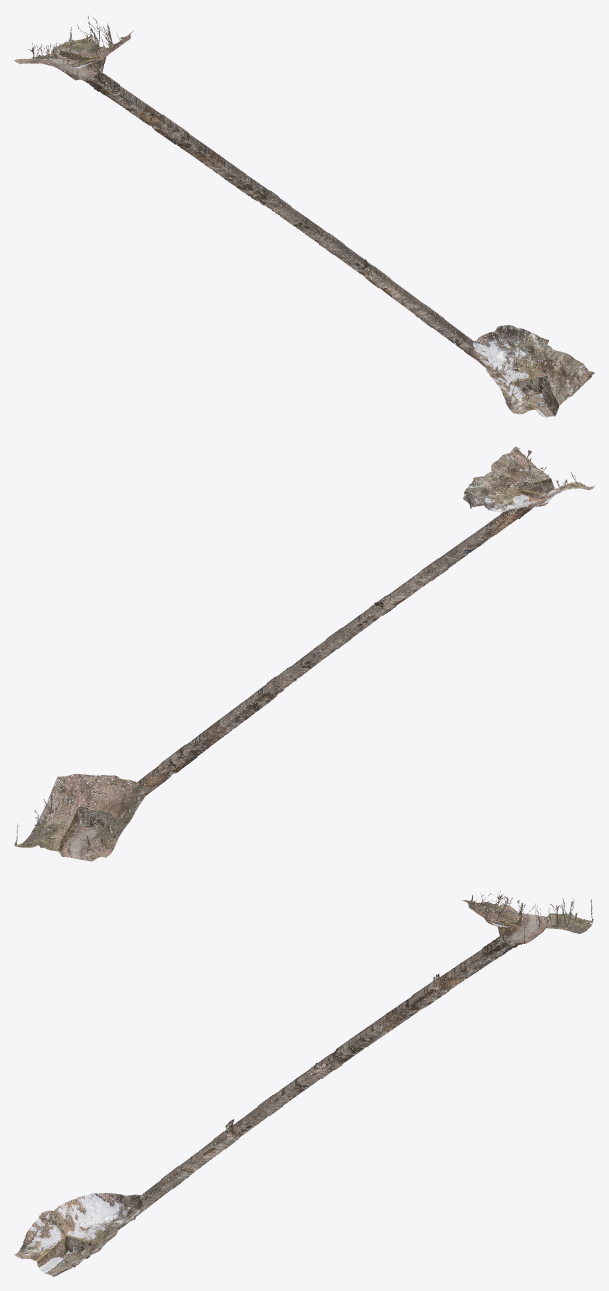
The model's file is cave.glb.
3 renders of one model, top to bottom at view 1: azimuth 30°, elevation 25°; view 2: azimuth 150°, elevation 25°; view 3: azimuth 330°, elevation 25°, orthographic.
Parts seen in each view (by area): view 1: Object_6, Object_2, Object_9, Object_10, Object_8, Object_12, Object_7, Object_4, Object_5, Object_13, Object_11, Object_14; view 2: Object_9, Object_2, Object_4, Object_7, Object_12, Object_6, Object_10, Object_8, Object_5, Object_13, Object_11, Object_14; view 3: Object_2, Object_6, Object_9, Object_12, Object_7, Object_4, Object_8, Object_10, Object_5, Object_13, Object_11, Object_14.
Part boxes in pixels (x1,y1,x2,y2): Object_6: [17, 18, 591, 416]; Object_2: [17, 17, 593, 417]; Object_9: [18, 23, 588, 413]; Object_10: [14, 16, 594, 416]; Object_8: [22, 27, 587, 414]; Object_12: [26, 26, 589, 413]; Object_7: [24, 28, 591, 416]; Object_4: [20, 35, 591, 415]; Object_5: [27, 27, 589, 413]; Object_13: [15, 29, 588, 414]; Object_11: [23, 22, 590, 413]; Object_14: [22, 29, 593, 415]; Object_9: [14, 448, 583, 857]; Object_2: [15, 447, 589, 859]; Object_4: [38, 449, 585, 857]; Object_7: [19, 449, 584, 859]; Object_12: [15, 452, 574, 859]; Object_6: [17, 449, 593, 860]; Object_10: [17, 446, 584, 861]; Object_8: [14, 453, 594, 855]; Object_5: [17, 452, 587, 860]; Object_13: [22, 453, 590, 857]; Object_11: [24, 451, 587, 859]; Object_14: [27, 447, 592, 856]; Object_2: [19, 890, 593, 1273]; Object_6: [15, 895, 592, 1276]; Object_9: [24, 897, 592, 1271]; Object_12: [27, 893, 592, 1271]; Object_7: [20, 894, 589, 1275]; Object_4: [22, 896, 590, 1272]; Object_8: [14, 899, 584, 1263]; Object_10: [23, 898, 591, 1274]; Object_5: [21, 892, 573, 1273]; Object_13: [18, 897, 576, 1270]; Object_11: [21, 901, 579, 1268]; Object_14: [16, 894, 590, 1276].
Size of the model in its own units: 40.37 by 19.13 by 417.
12 materials, 12 textured.
